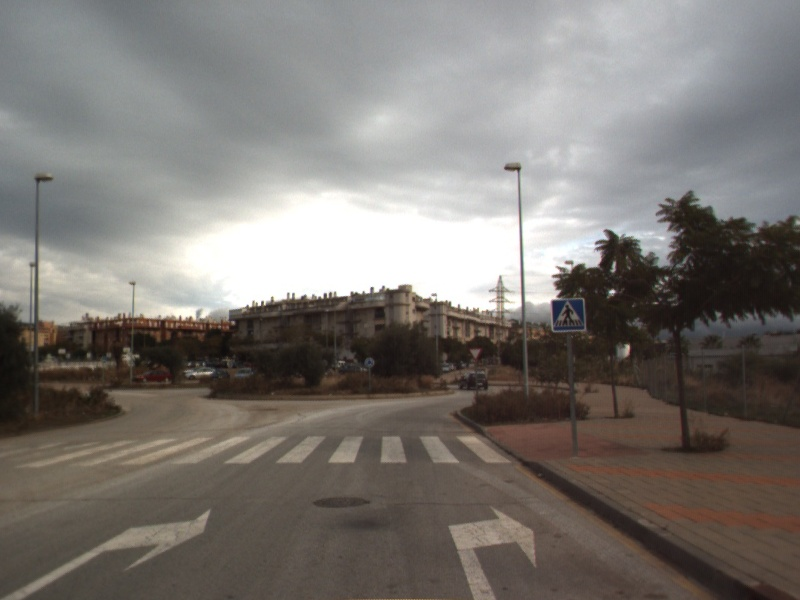RIGHT: (1, 506, 213, 600), (446, 503, 538, 600)
